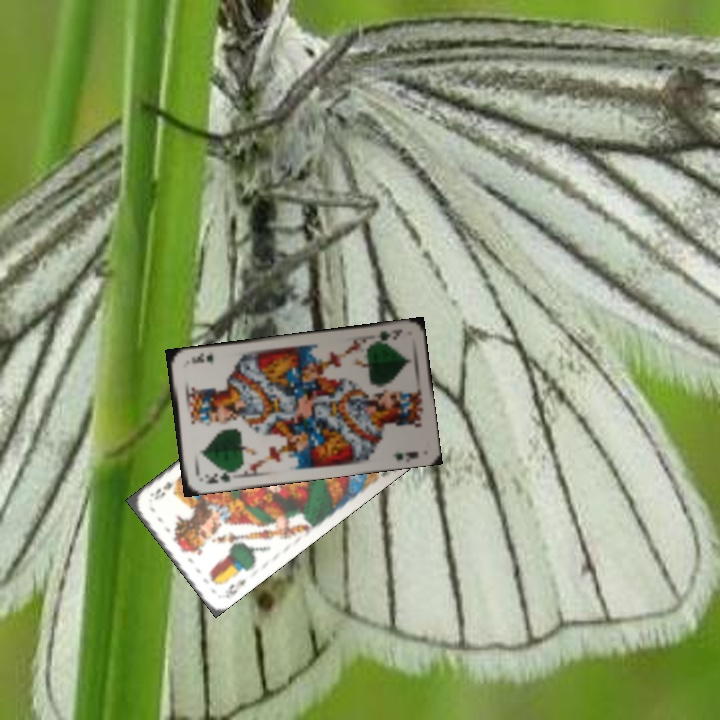EK: (219, 575, 248, 601)
GK: (369, 325, 405, 346), (200, 467, 237, 487)
